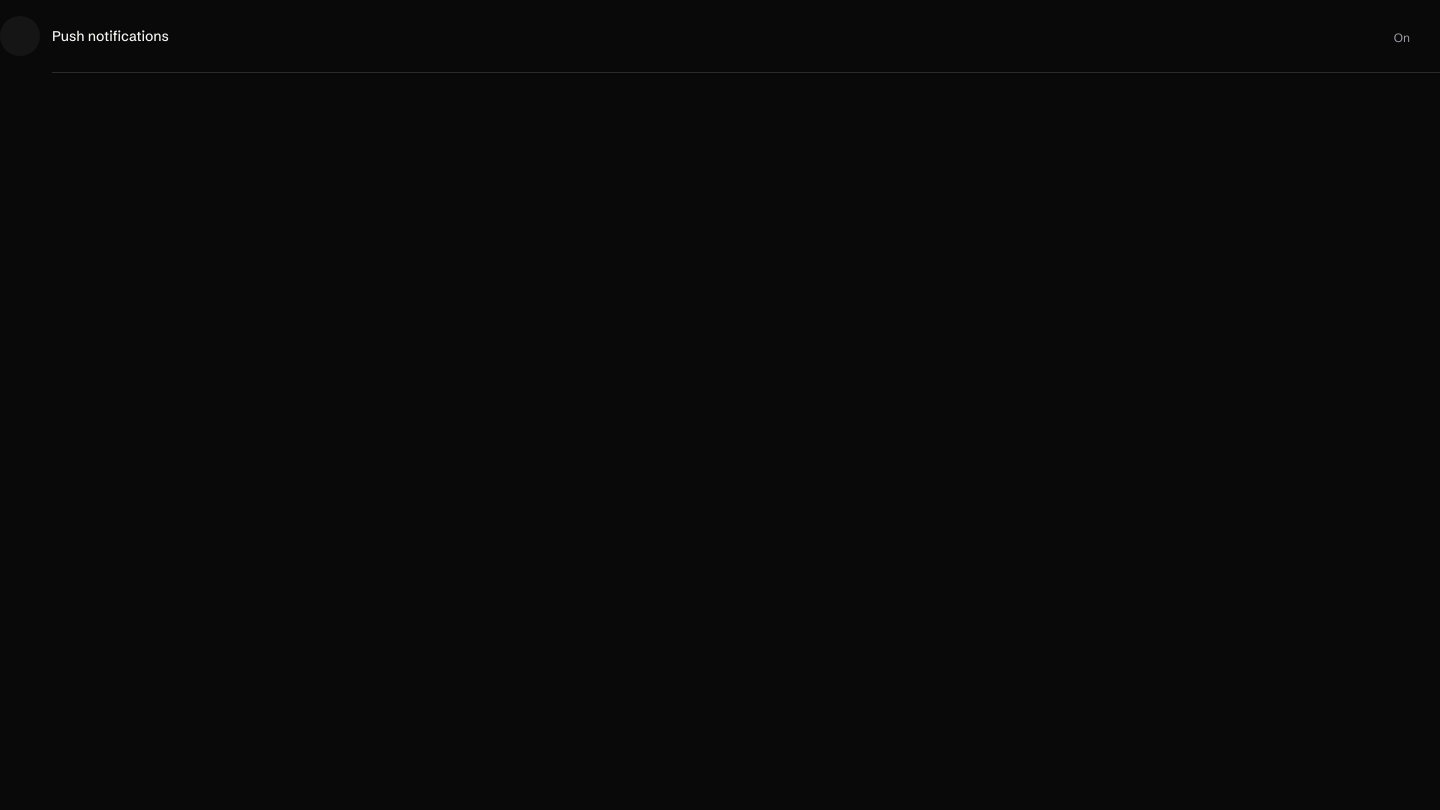
Scenario: PushNotificationsRow › shows the API's message when the test is refused
Click the button "Push notifications On" at [20, 36], box [0, 0, 1439, 72]
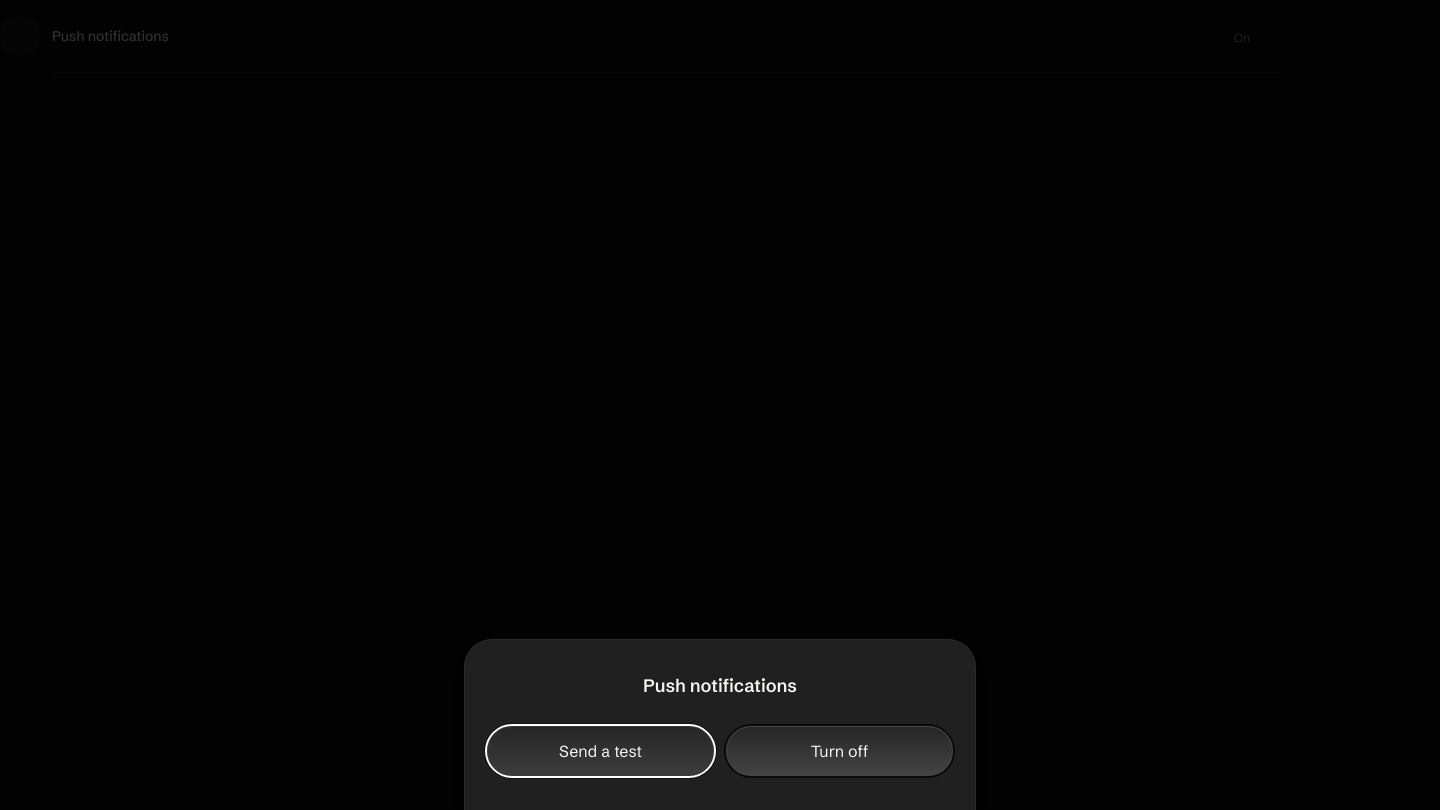
Click the button "Send a test" at [600, 751], box [485, 724, 716, 778]
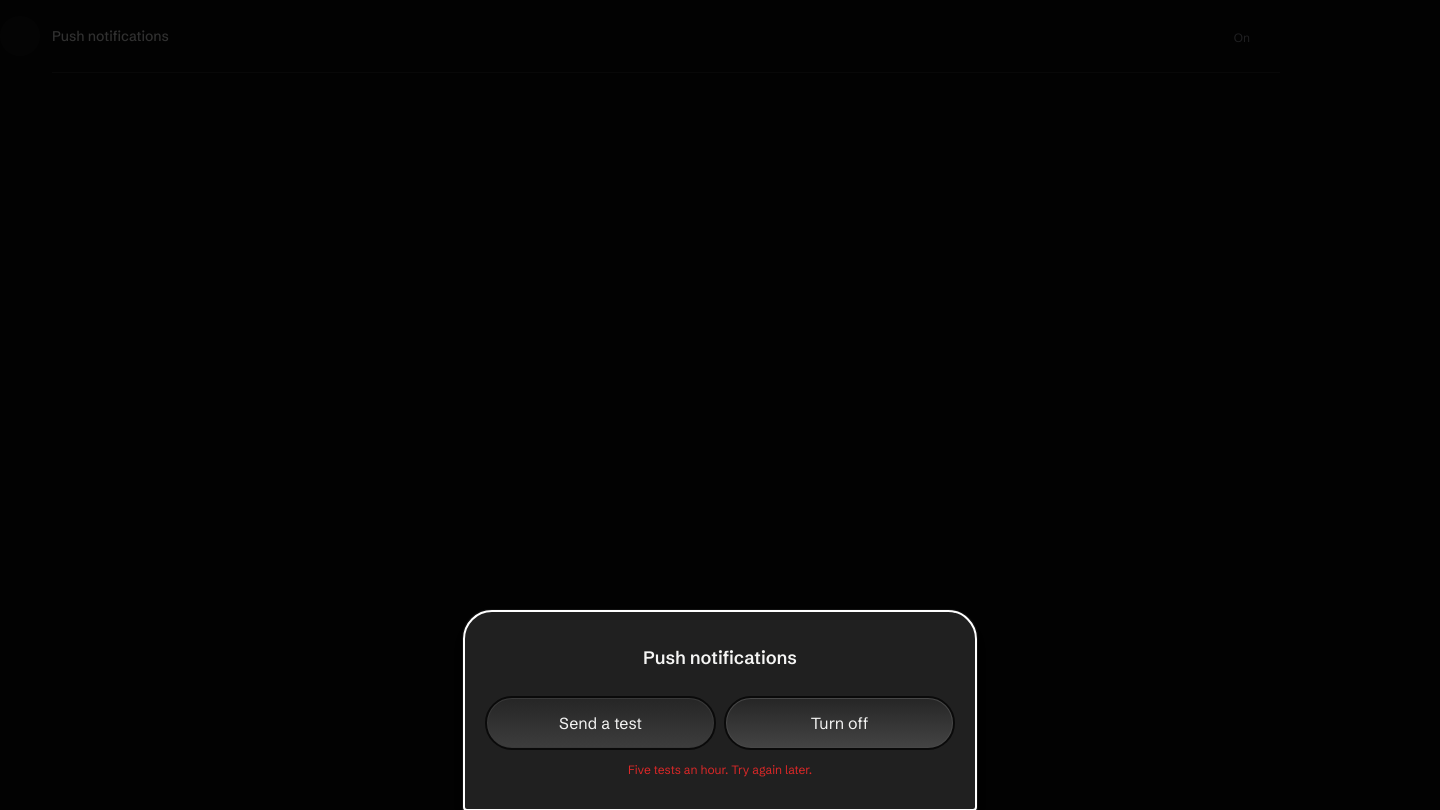
Expected: the message reads "Five tests an hour. Try again later.", [628, 762, 812, 777]
